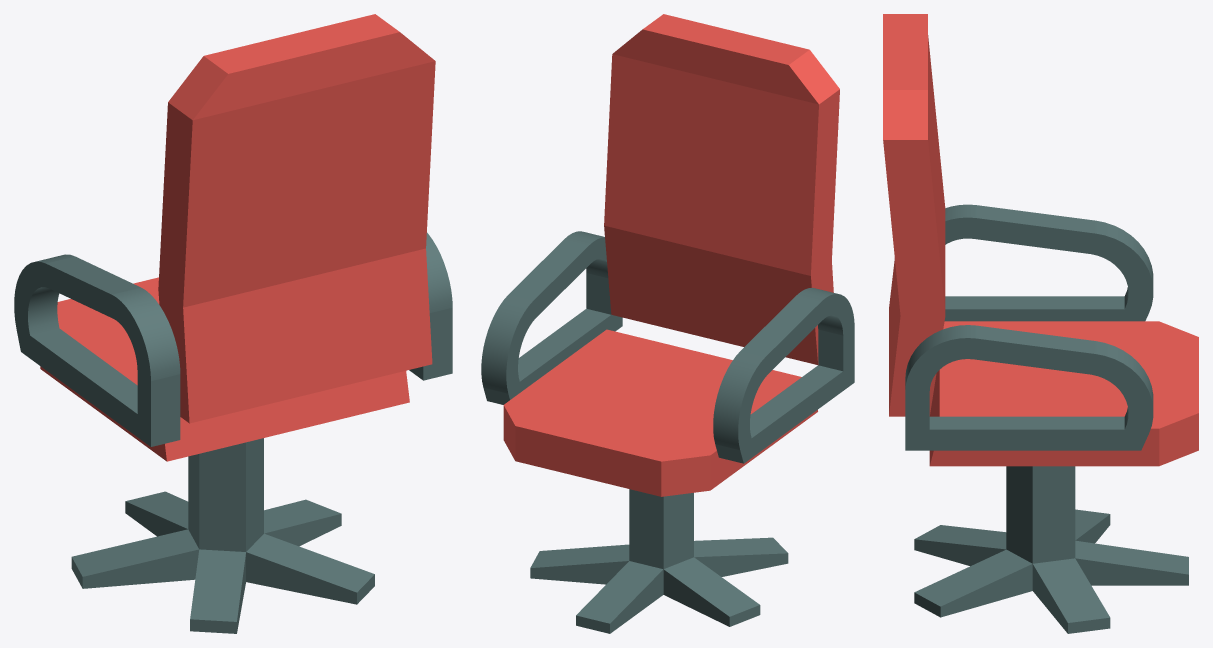
The model's file is furn-office-chair-modern.glb.
3 renders of one model, left to right at view 1: azimuth 30°, elevation 25°; view 2: azimuth 150°, elevation 25°; view 3: azimuth 270°, elevation 25°, orthographic. The views are drawn at different scales.
Parts seen in each view (by area): view 1: chair, chairDesk; view 2: chair, chairDesk; view 3: chair, chairDesk.
Part boxes in pixels (<box>): chair: <box>14,14,452,461</box>; chairDesk: <box>71,438,374,633</box>; chair: <box>481,14,854,496</box>; chairDesk: <box>530,489,788,633</box>; chair: <box>883,14,1198,466</box>; chairDesk: <box>914,466,1188,633</box>.
Bounding box in the file's own units: 0.6 × 1.1 × 0.6.
